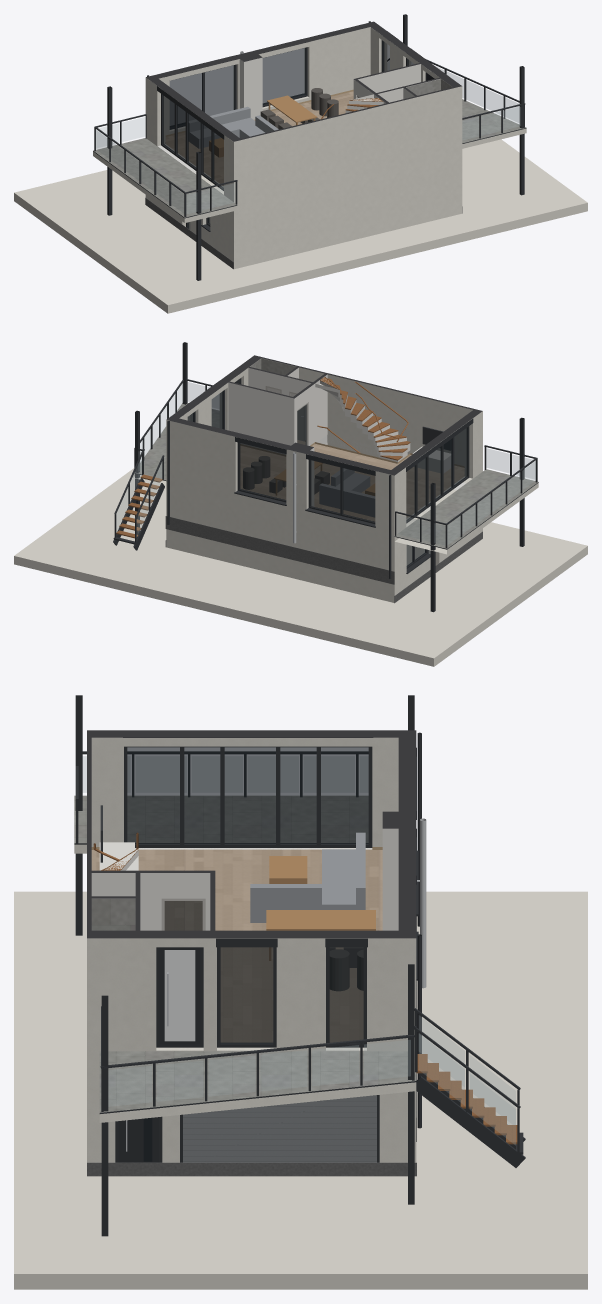
File: dum_b_1np.glb
The picture shows the model from 3 angles, top to bottom: view 1: azimuth 30°, elevation 25°; view 2: azimuth 150°, elevation 25°; view 3: azimuth 270°, elevation 25°; orthographic projection. The views are drawn at different scales.
Parts seen in each view (by area): view 1: B_ext_omitka, podstava, B_sklo_sklo, B_ext_antracit, B_ext_dlazba_balkon, B_ext_sklo_zabradli, rez_sten, B_int_omitka_int, pevne_vinyl, sedacka_L_dlouha, jidelni_stul, B_ext_sokl (+2 smaller); view 2: podstava, B_ext_omitka, B_ext_antracit, B_sklo_sklo, B_int_omitka_int, B_ext_dlazba_balkon, B_ext_sklo_zabradli, B_ext_sokl, pevne_vinyl, rez_sten, B_int_drevo, sedacka_L_dlouha (+3 smaller); view 3: podstava, B_ext_omitka, B_sklo_sklo, B_ext_dlazba_balkon, B_ext_antracit, pevne_vinyl, B_ext_sklo_zabradli, rez_sten, B_ext_vrata, B_int_omitka_int, B_ext_sokl, B_ext_dvere (+10 smaller).
Boxes of the visible parts, x1,y1,x2,y2 form: B_ext_omitka: (93,27,526,269); podstava: (14,139,587,313); B_sklo_sklo: (163,41,413,229); B_ext_antracit: (93,14,526,280); B_ext_dlazba_balkon: (93,99,525,217); B_ext_sklo_zabradli: (96,67,520,213); rez_sten: (146,21,461,141); B_int_omitka_int: (239,57,440,119); pevne_vinyl: (166,91,353,185); sedacka_L_dlouha: (189,106,255,148); jidelni_stul: (267,95,317,125); B_ext_sokl: (145,197,462,269); podstava: (14,468,587,666); B_ext_omitka: (133,358,538,602); B_ext_antracit: (113,342,538,612); B_sklo_sklo: (187,391,467,566); B_int_omitka_int: (228,367,410,506); B_ext_dlazba_balkon: (134,403,537,548); B_ext_sklo_zabradli: (116,382,535,545); B_ext_sokl: (165,516,482,603); pevne_vinyl: (240,440,464,521); rez_sten: (166,355,482,475); B_int_drevo: (317,377,410,460); sedacka_L_dlouha: (319,483,374,517); podstava: (14,891,587,1289); B_ext_omitka: (74,737,416,1162); B_sklo_sklo: (127,747,368,1161); B_ext_dlazba_balkon: (74,795,416,1112); B_ext_antracit: (74,695,525,1236); pevne_vinyl: (91,849,382,1042); B_ext_sklo_zabradli: (83,756,515,1145); rez_sten: (87,730,416,938); B_ext_vrata: (183,1095,376,1162); B_int_omitka_int: (91,828,398,930); B_ext_sokl: (87,916,416,1176); B_ext_dvere: (118,947,200,1162).
Bounding box in the file's own units: 18.6 × 5.78 × 11.8.
Materials: 30 (8 with a texture image).
